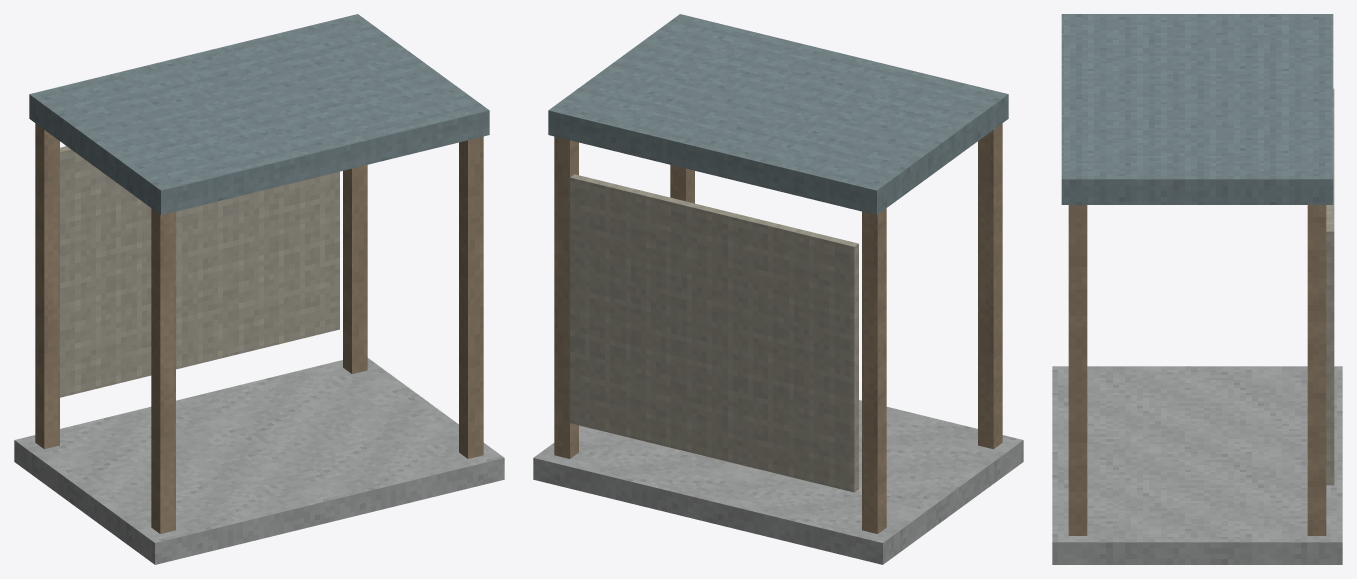
Rendered from level_blockout_mortuary_service_screen.glb.
The picture shows the model from 3 angles, left to right: view 1: azimuth 30°, elevation 25°; view 2: azimuth 150°, elevation 25°; view 3: azimuth 270°, elevation 25°; orthographic projection. The views are drawn at different scales.
Visible parts, largest first — view 1: level_blockout_mortuary_service_screen; view 2: level_blockout_mortuary_service_screen; view 3: level_blockout_mortuary_service_screen.
Part boxes in pixels (<box>): level_blockout_mortuary_service_screen: <box>14,14,504,564</box>; level_blockout_mortuary_service_screen: <box>533,14,1023,564</box>; level_blockout_mortuary_service_screen: <box>1052,14,1342,564</box>.
Bounding box in the file's own units: 2.68 × 2.71 × 1.87.
4 materials, 4 textured.
